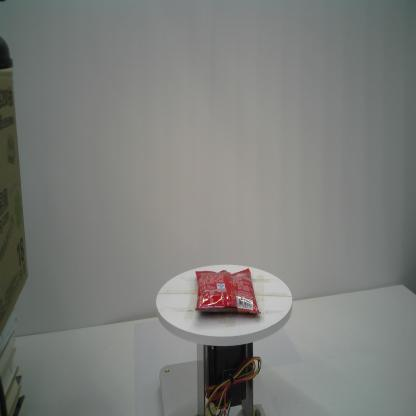Instant Drink: (195, 268, 262, 315)
